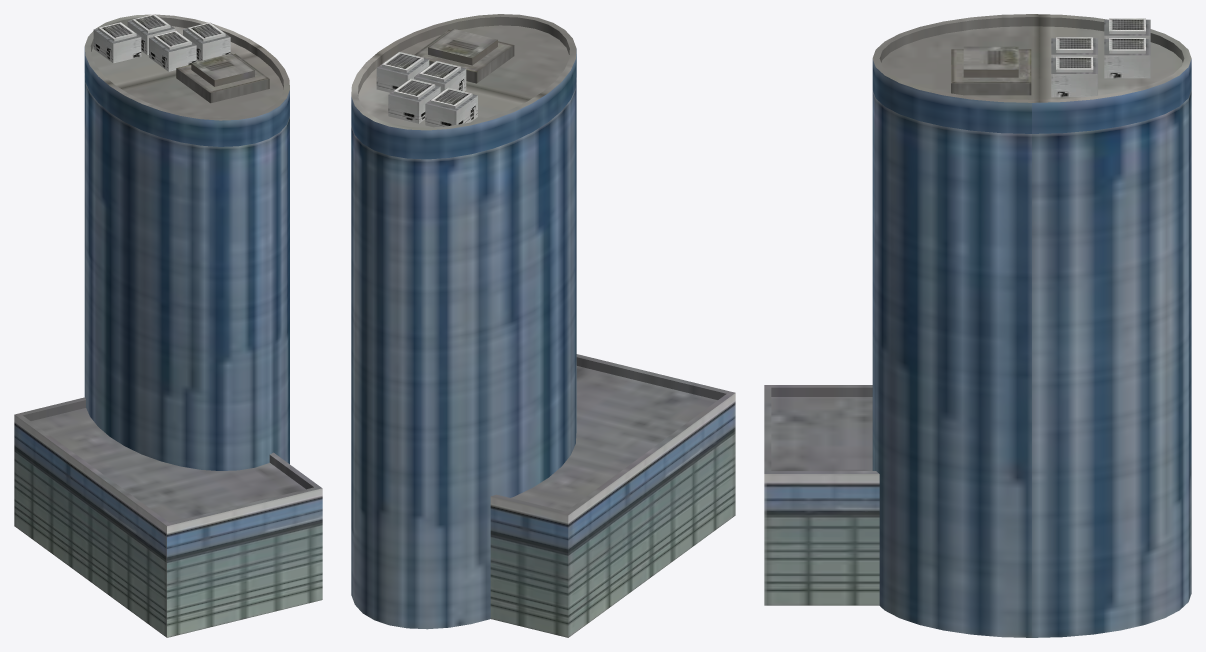
The picture shows the model from 3 angles, left to right: view 1: azimuth 30°, elevation 25°; view 2: azimuth 150°, elevation 25°; view 3: azimuth 270°, elevation 25°; orthographic projection. The views are drawn at different scales.
Bounding box in the file's own units: 0.2357 × 0.4994 × 0.3504.
1 material, 1 textured.
